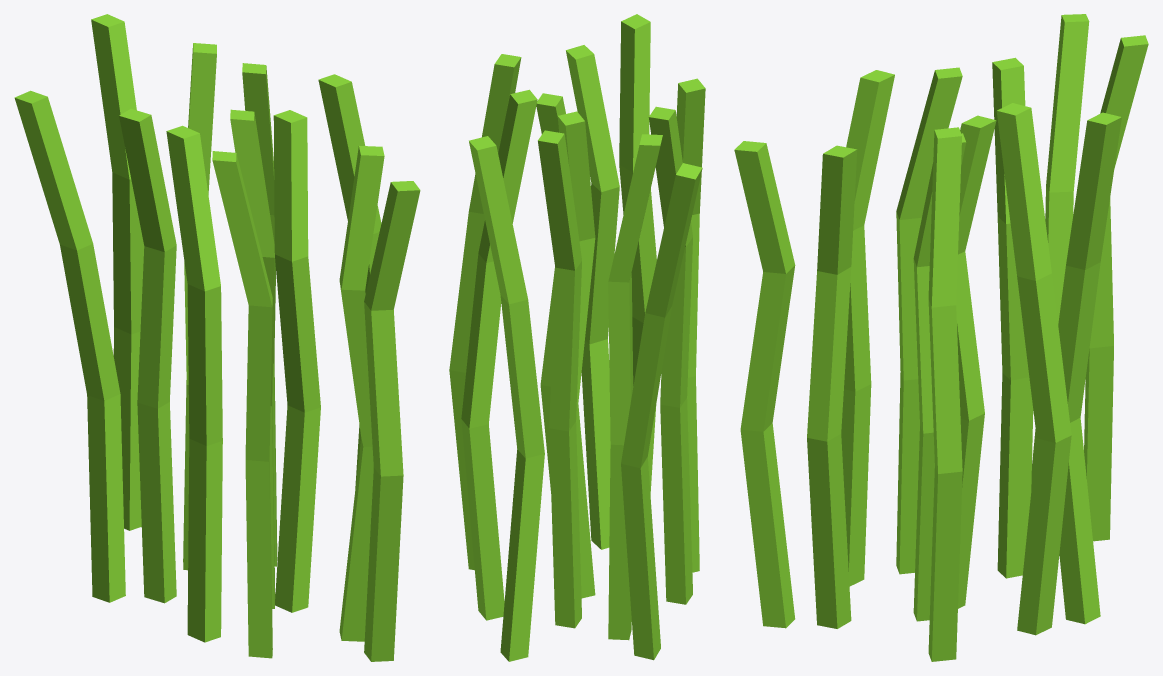
File: Bush2V2.fbx
The picture shows the model from 3 angles, left to right: view 1: azimuth 30°, elevation 25°; view 2: azimuth 150°, elevation 25°; view 3: azimuth 270°, elevation 25°; orthographic projection.
Parts seen in each view (by area): view 1: Cube.016; view 2: Cube.016; view 3: Cube.016.
Boxes of the visible parts, x1=… form: Cube.016: x1=14, y1=14, x2=420, y2=661; Cube.016: x1=449, y1=14, x2=705, y2=661; Cube.016: x1=734, y1=14, x2=1148, y2=661.
Bounding box in the file's own units: 50.84 × 85.47 × 58.7.
